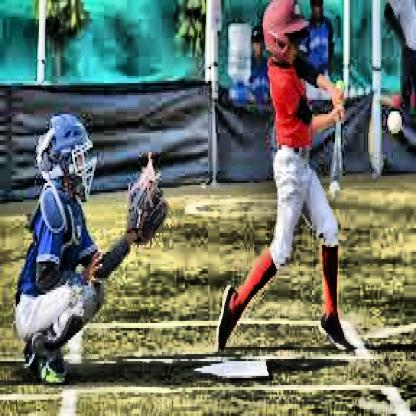baseball: (389, 112, 402, 134)
